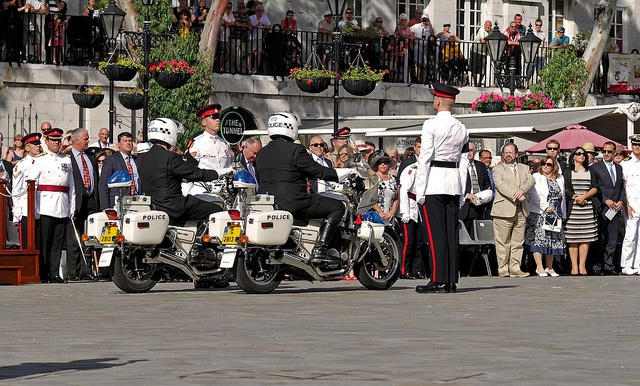non-vehicle: (202, 170, 404, 293), (80, 170, 238, 294)
